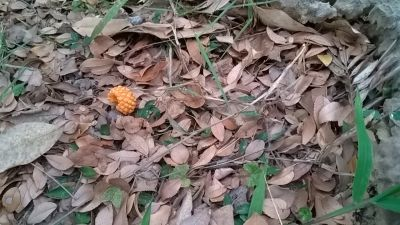eggs: (106, 85, 138, 115)
